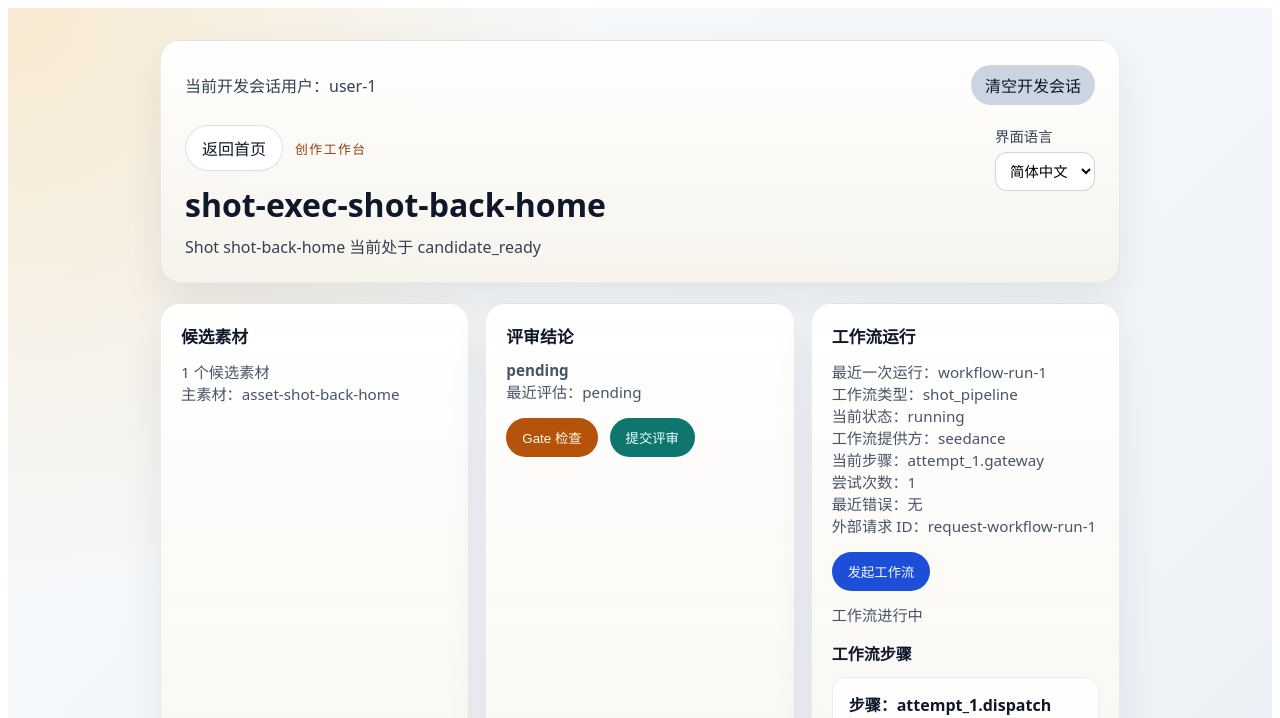
Scenario: App › returns to the home route from the shot workbench while keeping the remembered project
Expected: the heading "shot-exec-shot-back-home" is shown, x1=185 y1=183 x2=606 y2=226
Click the button "返回首页". click: click(234, 148)
box: x1=185 y1=125 x2=283 y2=171
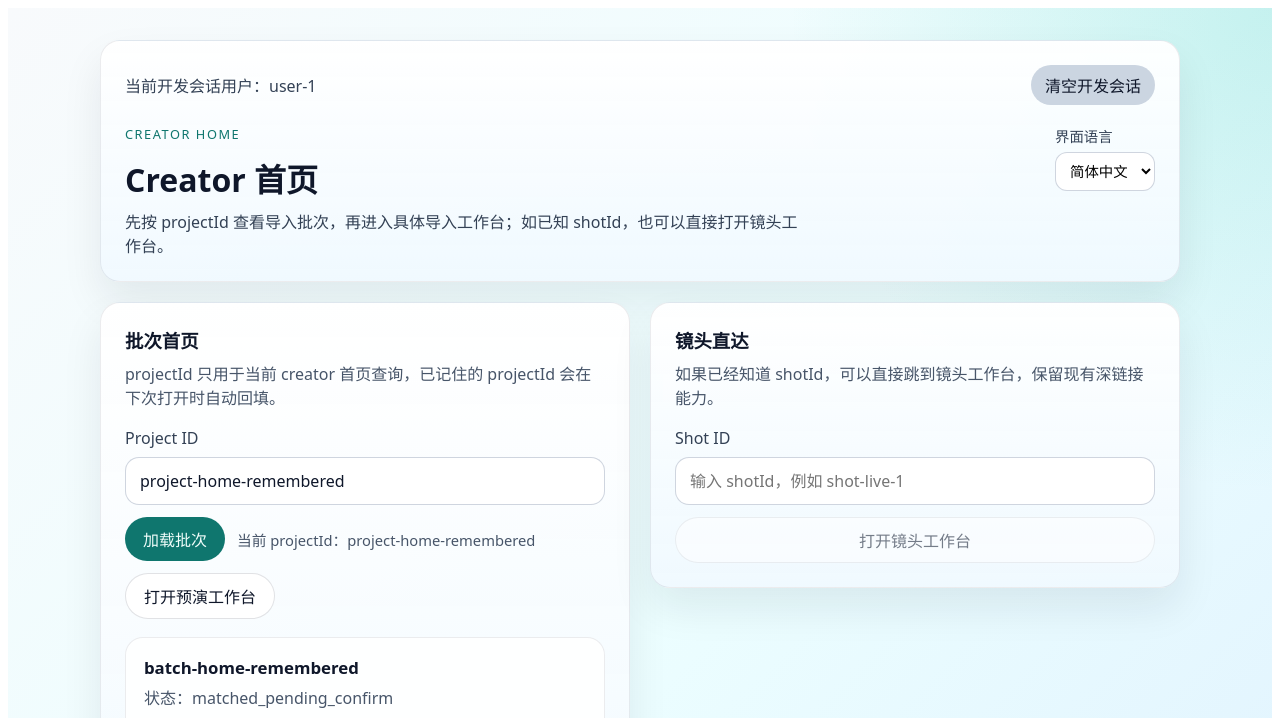
Expected: the heading "Creator 首页" is shown, x1=125 y1=158 x2=318 y2=201
Expected: the text "当前 projectId：project-home-remembered" is shown, x1=237 y1=528 x2=535 y2=550
